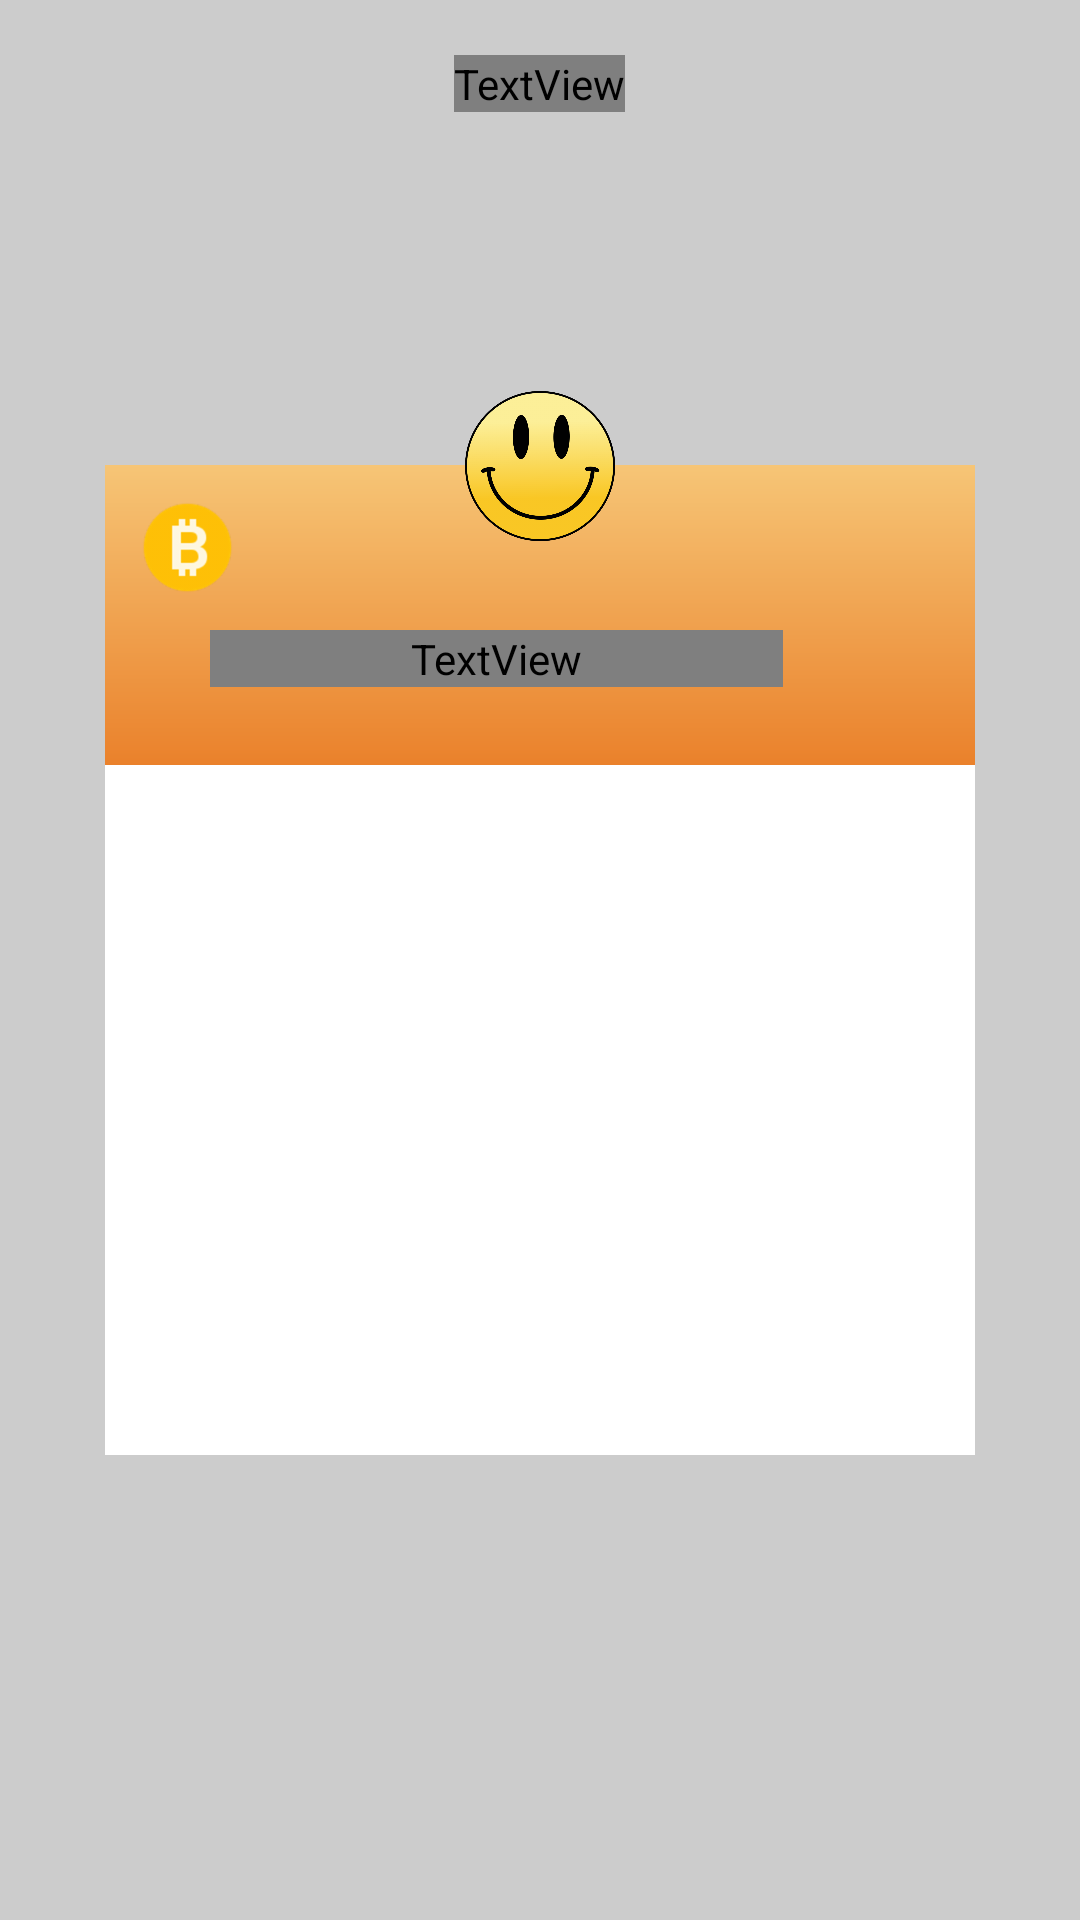

Screen size 1080 × 1920. Icon name, then its center in pixels as [x,y]:
smiling avt: [540,466]
